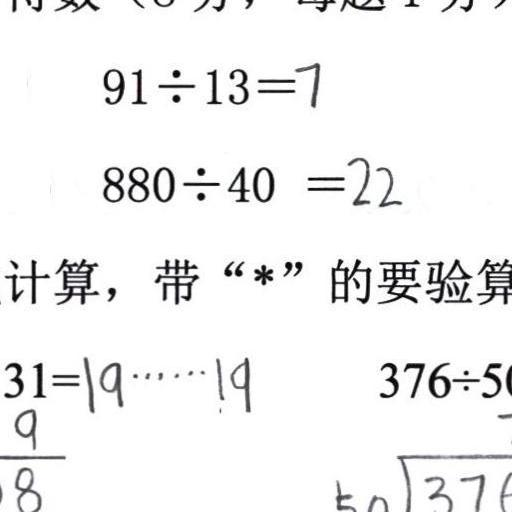ans: (78, 349, 254, 414), (342, 151, 401, 208), (292, 58, 321, 107)
